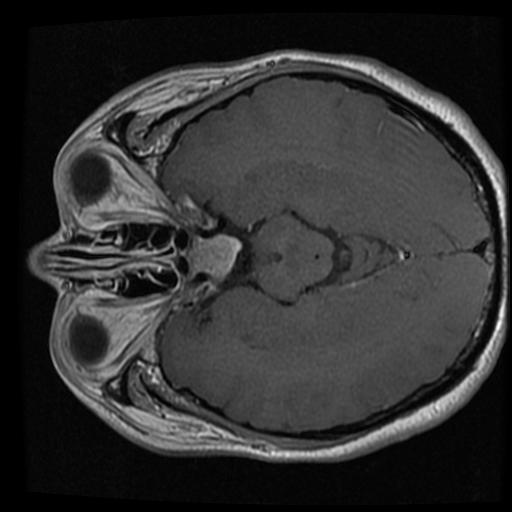pituitary tumour: (185, 234, 242, 278)
